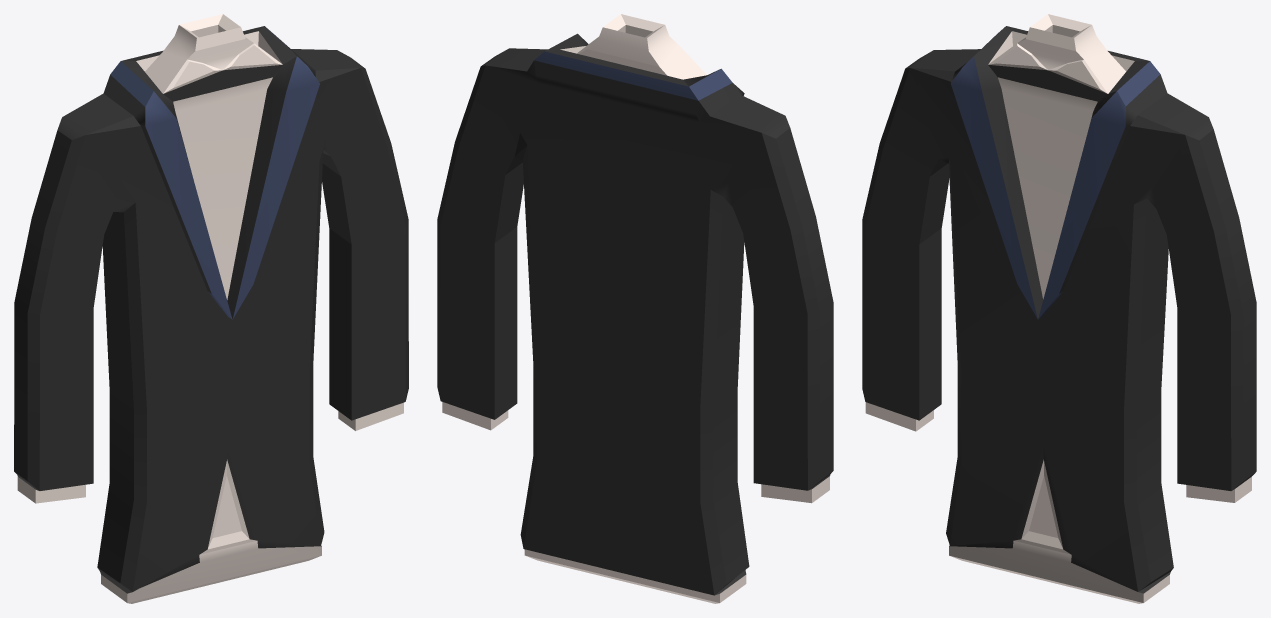
The model's file is Suit_Tuxedo.fbx.
The picture shows the model from 3 angles, left to right: view 1: azimuth 30°, elevation 25°; view 2: azimuth 150°, elevation 25°; view 3: azimuth 330°, elevation 25°; orthographic projection.
Visible parts, largest first — view 1: Suit; view 2: Suit; view 3: Suit.
Boxes of the visible parts, box(x1,y1,x2,y2) form: Suit: box(14, 14, 408, 603); Suit: box(437, 14, 833, 603); Suit: box(862, 14, 1256, 603).
Size of the model in its own units: 47.37 by 65.17 by 8.73.
